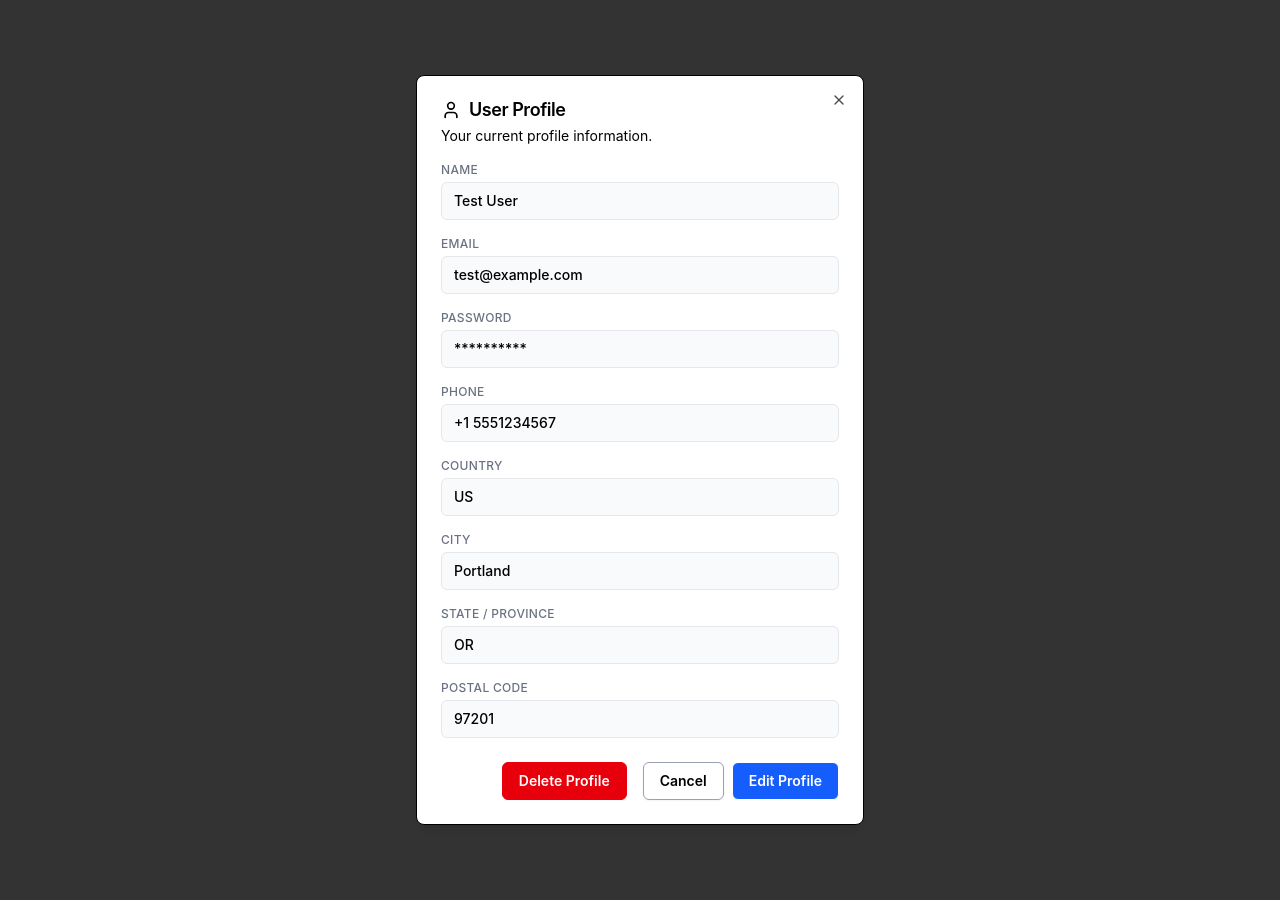
Test: UserProfileModal › switches to edit mode when Edit Profile is clicked
The width and height of the screenshot is (1280, 900).
Click the button "Edit Profile" at {"x": 785, "y": 781}, box [732, 762, 839, 800]
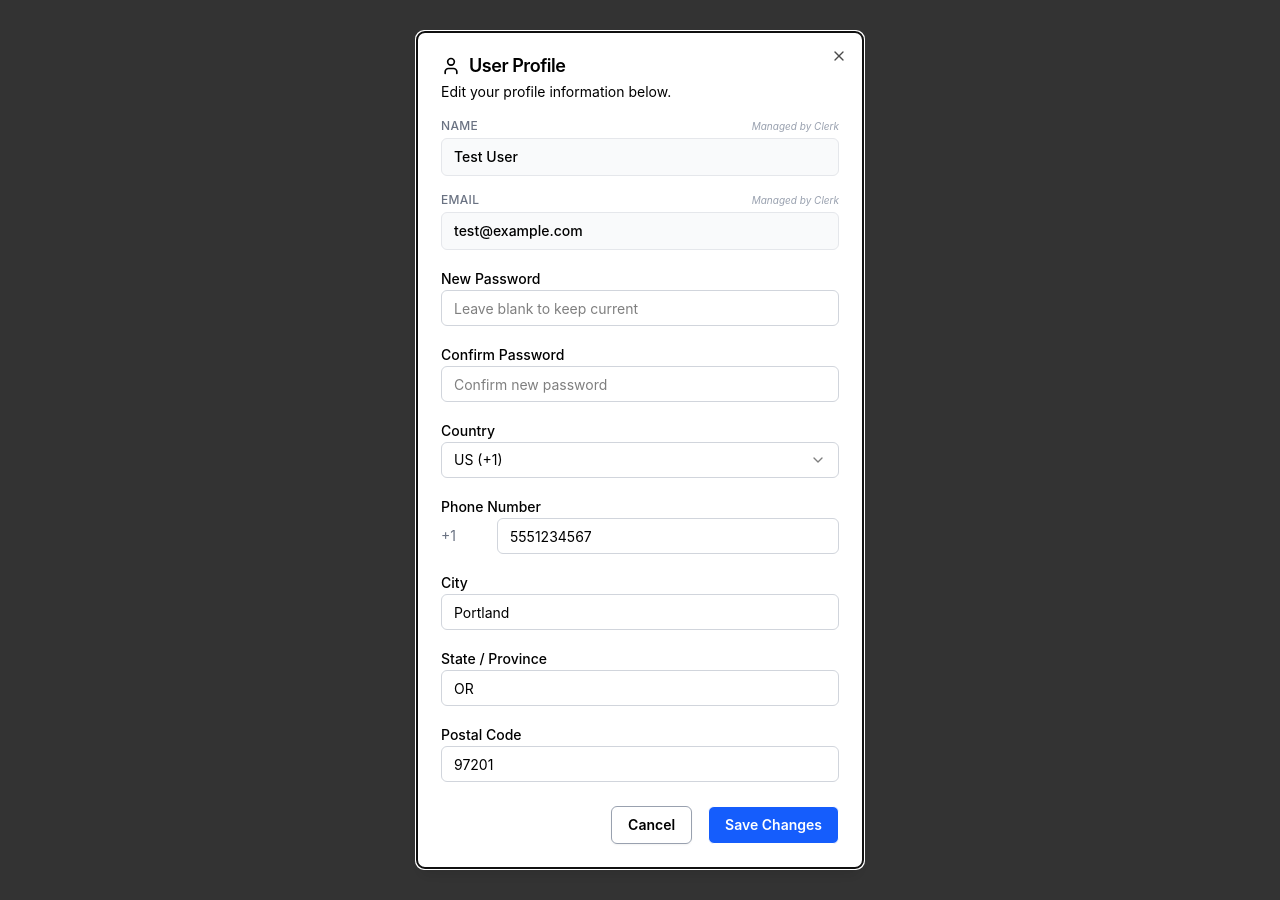
Expected: the button "Save Changes" is shown, [708, 806, 839, 844]
Expected: the field labelled "City" is shown, [441, 594, 839, 630]
